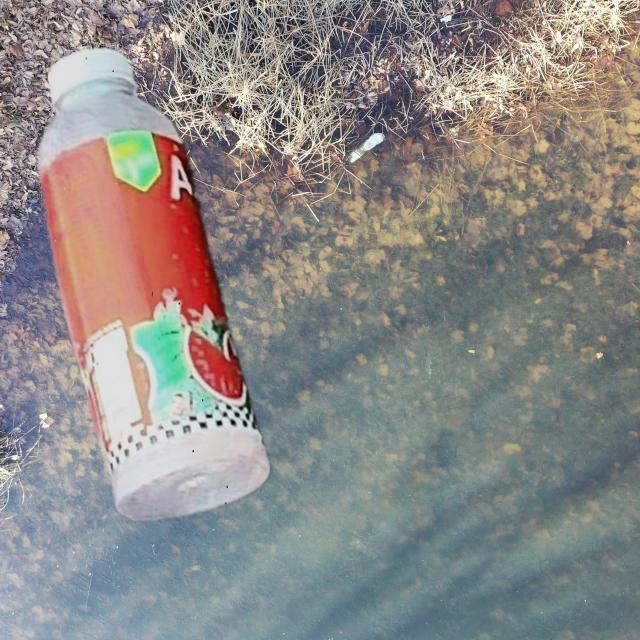Plastic: (32, 46, 273, 525)
